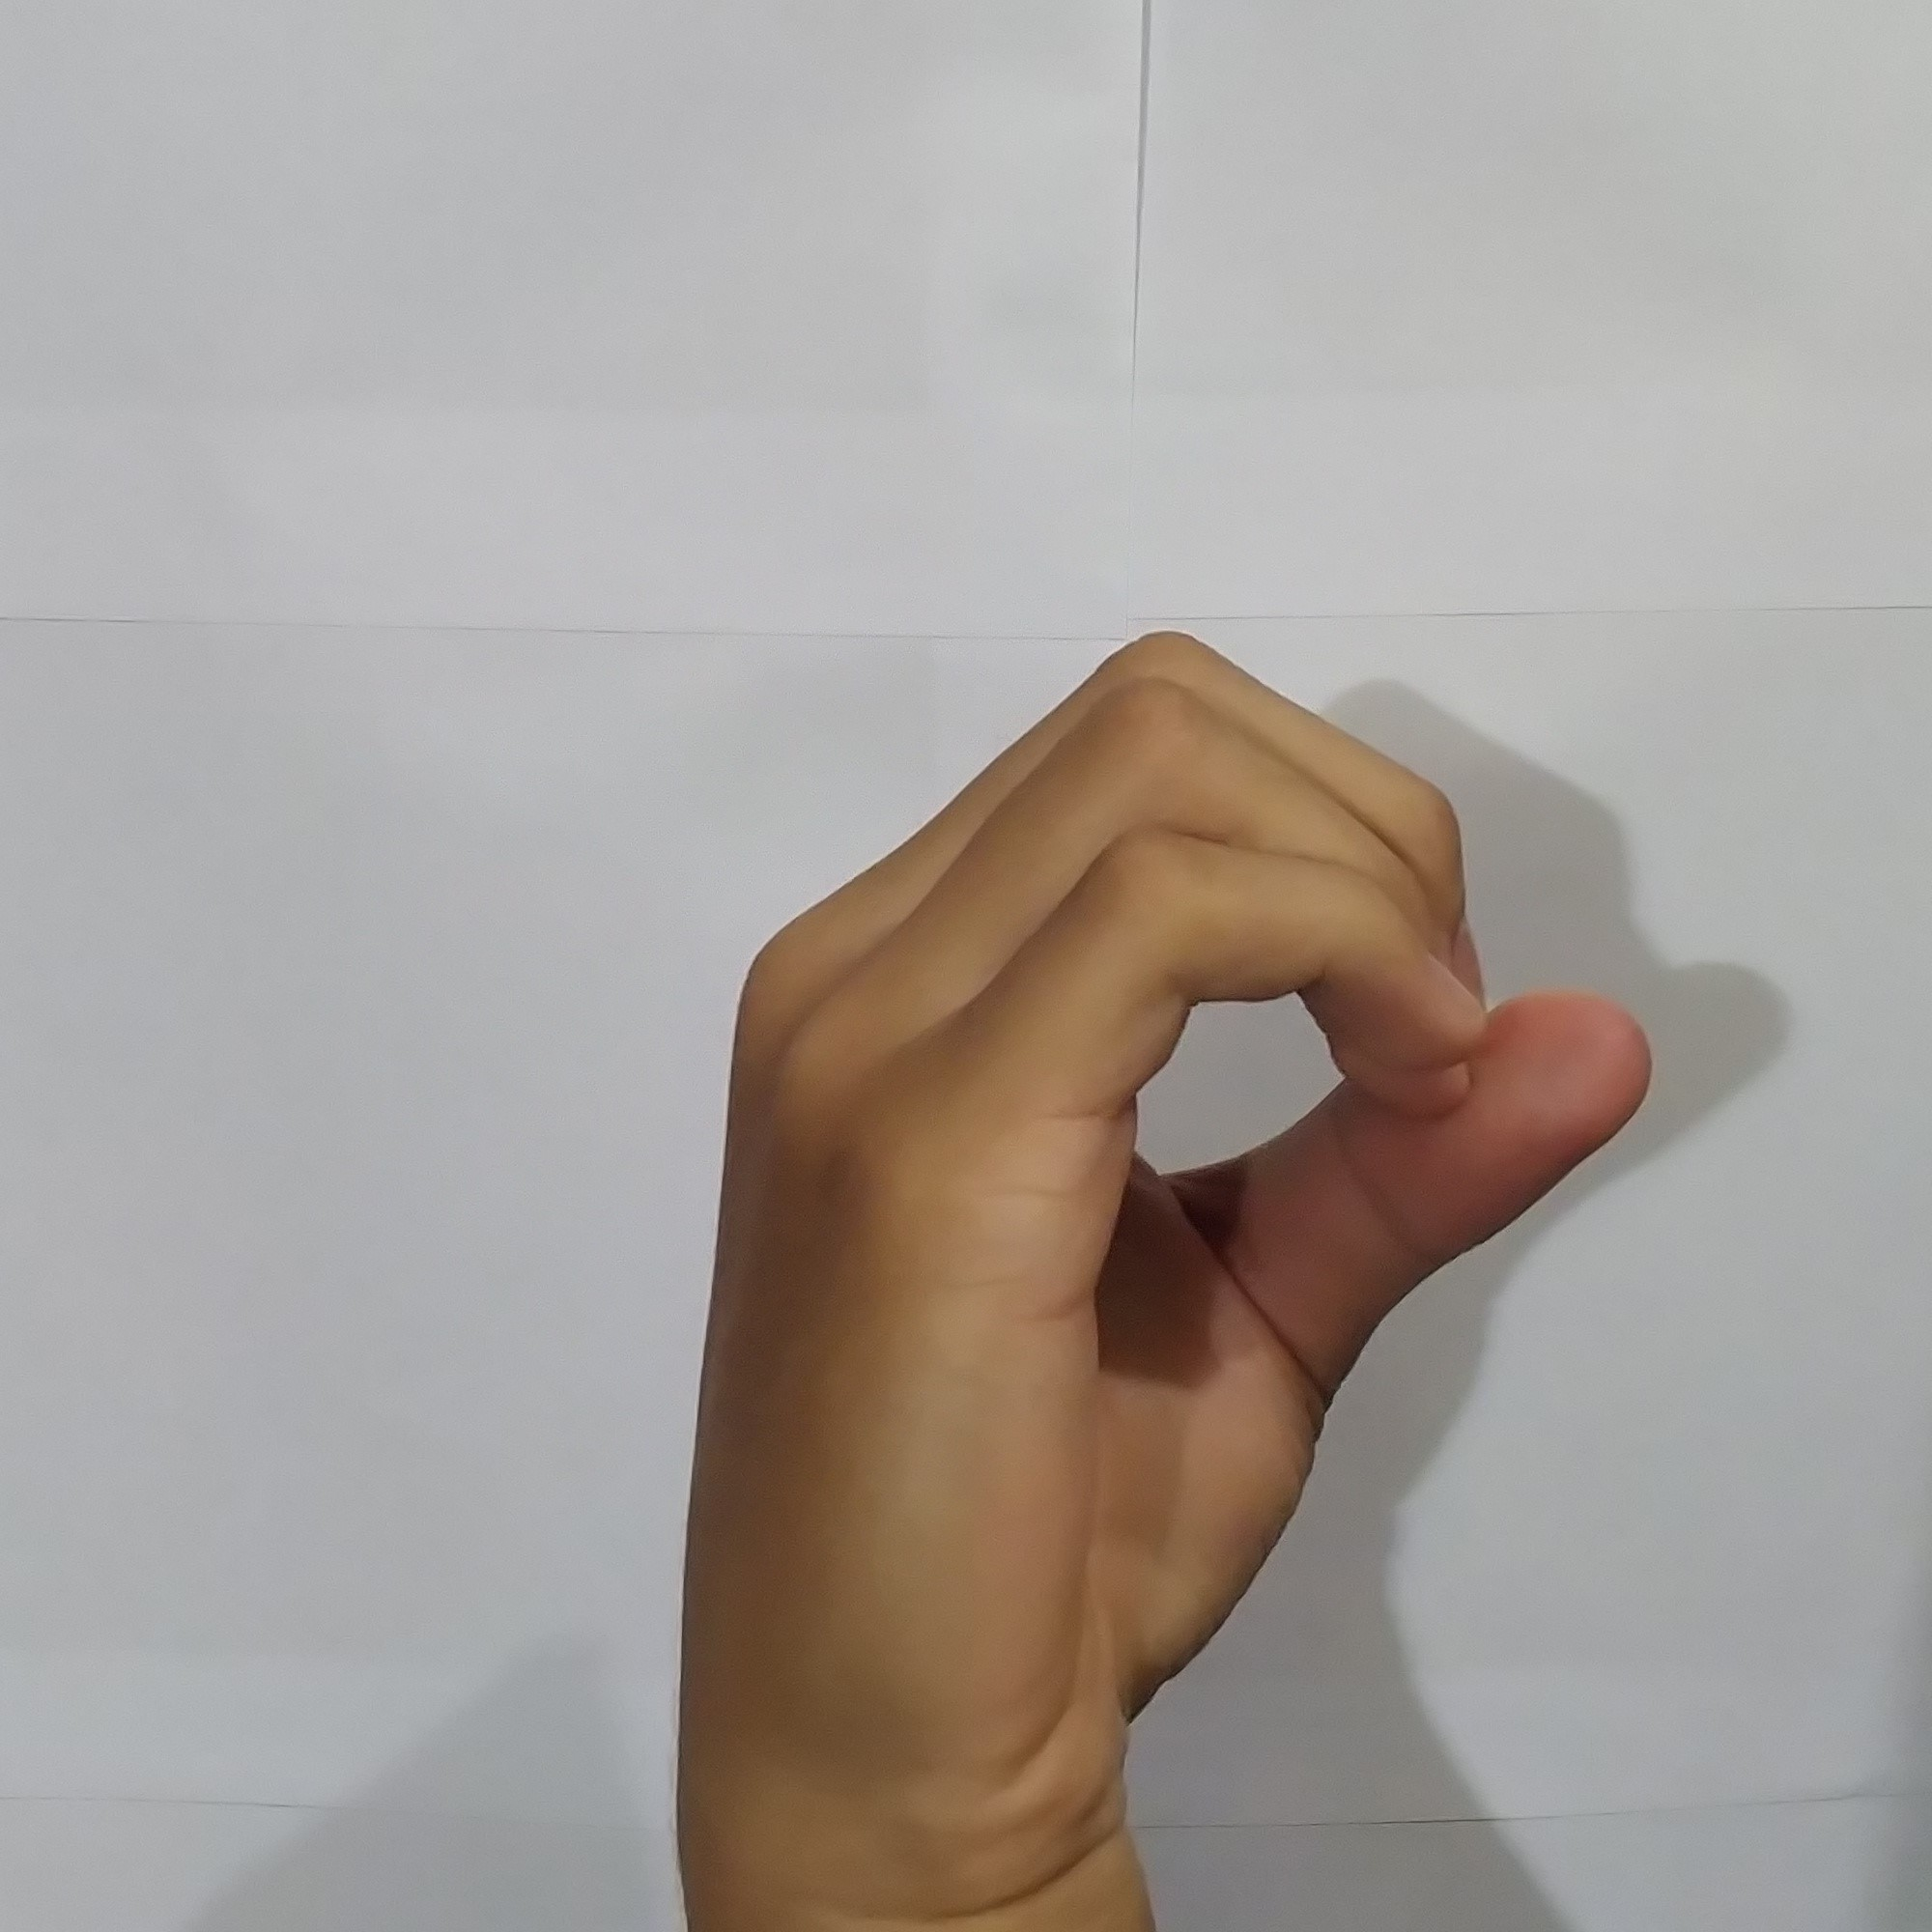O: (665, 600, 1679, 1829)
